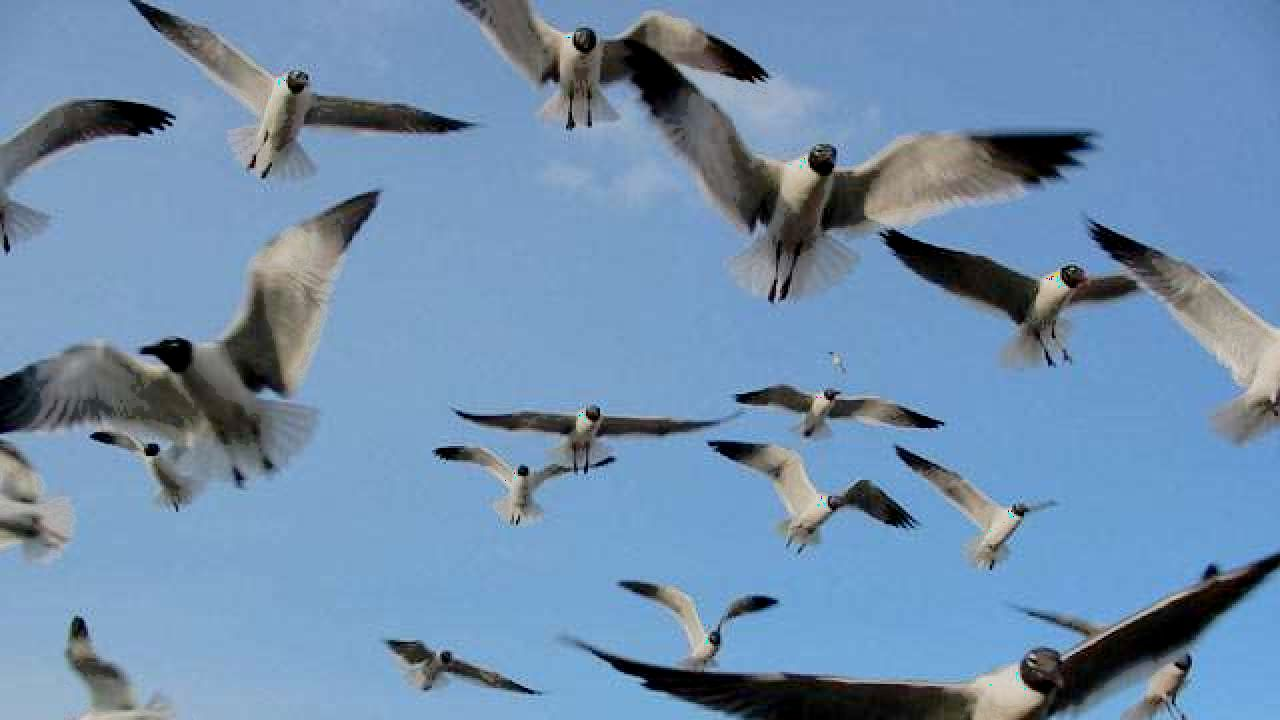Bird: (618, 36, 1100, 314), (2, 178, 382, 494), (554, 549, 1278, 714), (126, 1, 485, 184), (876, 221, 1233, 377), (1079, 205, 1280, 457), (448, 2, 775, 143), (1002, 558, 1235, 715), (696, 426, 922, 566), (2, 89, 178, 264), (891, 434, 1063, 583), (450, 395, 739, 477), (417, 436, 624, 533), (728, 379, 952, 457), (615, 571, 780, 673), (373, 621, 545, 711), (56, 600, 191, 712), (91, 420, 211, 524)
